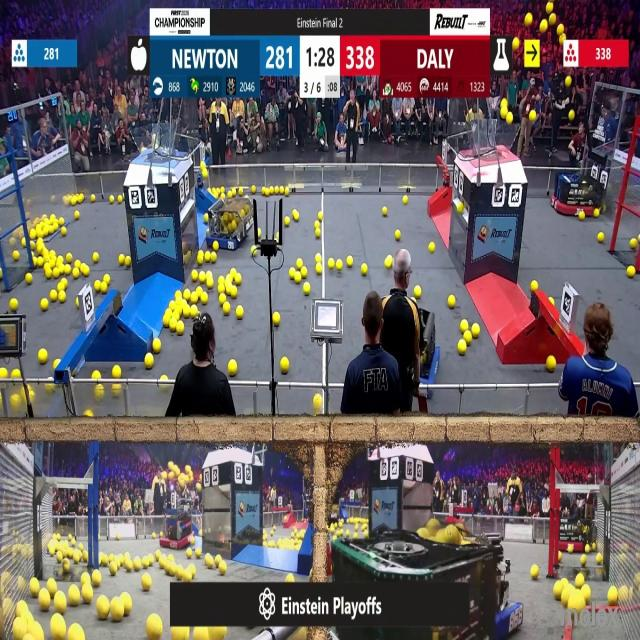ball_airborne: (178, 476, 186, 489), (545, 2, 553, 14), (549, 13, 557, 24), (514, 38, 521, 50), (500, 97, 507, 109), (539, 22, 547, 32), (525, 13, 532, 24), (565, 76, 572, 87), (500, 108, 507, 119), (506, 111, 512, 123), (559, 34, 566, 44), (568, 110, 574, 120), (530, 110, 536, 120), (558, 25, 564, 35), (168, 470, 174, 480), (163, 471, 169, 480), (195, 484, 200, 493), (185, 465, 190, 473), (169, 462, 173, 470)
ball_ground: (147, 617, 161, 640), (112, 603, 126, 625), (98, 599, 110, 620), (55, 594, 68, 612), (68, 625, 83, 640), (69, 587, 80, 606), (39, 593, 50, 611), (30, 580, 40, 598), (82, 587, 92, 604), (607, 589, 617, 606), (125, 596, 133, 615), (144, 353, 154, 368), (280, 357, 290, 372), (38, 349, 48, 364), (93, 570, 102, 586), (314, 394, 322, 411), (583, 587, 592, 602), (142, 574, 150, 590), (554, 584, 562, 600), (47, 580, 56, 594), (152, 340, 160, 354), (546, 356, 554, 370), (230, 360, 238, 374), (182, 570, 192, 581), (575, 574, 584, 586), (81, 572, 90, 584), (273, 313, 281, 326), (10, 299, 18, 312), (385, 255, 393, 268), (179, 324, 187, 337), (531, 565, 538, 579), (112, 364, 120, 376), (458, 342, 466, 354), (218, 562, 226, 574), (49, 290, 57, 302), (206, 556, 214, 568), (134, 558, 142, 570), (143, 556, 151, 568), (456, 202, 464, 214), (64, 560, 71, 573), (206, 278, 214, 289), (189, 306, 197, 317), (189, 292, 197, 303), (464, 333, 472, 344), (110, 563, 118, 574), (202, 292, 209, 304), (531, 280, 538, 292), (449, 295, 456, 307), (304, 282, 311, 294), (471, 324, 478, 336), (316, 264, 323, 276), (628, 267, 635, 279), (222, 304, 229, 316), (237, 307, 244, 319), (81, 266, 88, 278), (302, 268, 309, 280), (460, 320, 467, 332), (183, 307, 190, 319), (218, 293, 226, 303), (160, 559, 168, 569), (630, 239, 637, 250), (41, 300, 48, 311), (0, 366, 7, 377), (93, 252, 100, 263), (235, 274, 242, 285), (596, 554, 603, 565), (199, 272, 206, 283), (195, 253, 202, 264), (126, 560, 133, 571), (60, 290, 66, 302), (27, 273, 33, 285), (415, 285, 421, 297), (292, 210, 298, 222), (294, 272, 300, 284), (204, 252, 210, 264), (347, 256, 354, 266), (190, 272, 197, 282), (286, 572, 293, 582), (337, 262, 344, 272), (101, 284, 108, 294), (94, 369, 101, 379), (126, 256, 133, 266), (54, 268, 61, 278), (225, 285, 232, 295), (170, 320, 177, 330), (598, 233, 604, 244), (232, 286, 238, 297), (95, 281, 101, 292), (183, 289, 189, 300), (58, 282, 66, 290), (112, 384, 120, 392), (218, 284, 225, 293), (12, 251, 19, 260), (65, 266, 72, 275), (211, 252, 217, 262), (361, 266, 367, 276), (74, 270, 80, 280), (104, 275, 110, 285), (579, 556, 585, 566), (165, 316, 171, 326), (194, 549, 200, 559), (295, 258, 301, 268), (67, 253, 73, 263), (212, 242, 218, 252), (45, 269, 51, 279), (428, 243, 434, 253), (218, 277, 225, 285), (118, 254, 123, 265), (316, 253, 322, 262), (382, 207, 388, 216), (284, 217, 290, 226), (74, 211, 80, 220), (12, 368, 18, 377), (62, 226, 68, 235), (58, 255, 64, 264), (558, 553, 564, 562), (395, 231, 400, 241), (328, 260, 333, 270), (289, 270, 294, 280), (33, 256, 38, 266), (190, 566, 195, 576), (83, 552, 88, 562), (86, 412, 93, 419), (578, 212, 584, 220), (586, 544, 592, 552), (169, 302, 175, 310), (284, 188, 290, 196), (19, 240, 25, 248), (74, 259, 80, 267), (318, 212, 324, 220), (195, 286, 201, 294), (108, 197, 114, 205), (215, 555, 221, 563), (595, 209, 600, 218), (316, 230, 321, 239), (187, 550, 192, 559), (404, 197, 409, 206), (176, 290, 181, 299), (251, 247, 256, 256), (31, 241, 36, 250), (78, 193, 83, 202), (547, 296, 553, 303), (92, 194, 97, 202), (60, 217, 65, 225), (251, 185, 256, 193), (363, 530, 368, 538), (155, 551, 160, 559), (0, 270, 4, 280), (56, 359, 60, 368), (162, 376, 168, 382), (49, 250, 54, 257), (316, 220, 320, 228), (120, 197, 124, 205), (257, 230, 261, 238), (205, 214, 209, 222), (152, 532, 155, 540), (119, 537, 122, 544)
goal: (466, 122, 522, 160), (131, 130, 188, 161)
robot_blue: (434, 517, 524, 633), (208, 194, 256, 252)
robot_red: (340, 525, 458, 640), (552, 168, 598, 216), (162, 512, 195, 548), (557, 517, 591, 551)
